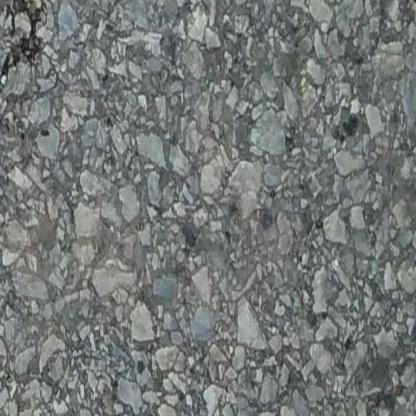Cracks: (0, 0, 50, 111)
